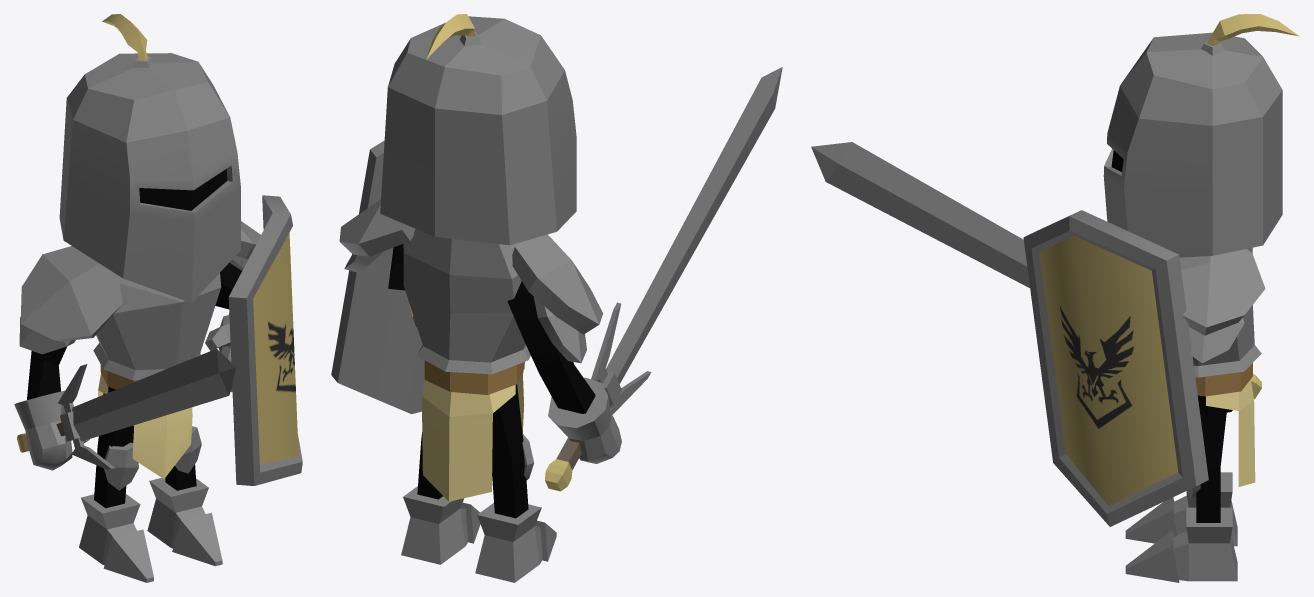
3 views of the same model, side by side, from view 1: azimuth 30°, elevation 25°; view 2: azimuth 150°, elevation 25°; view 3: azimuth 270°, elevation 25° (orthographic). The views are drawn at different scales.
Parts seen in each view (by area): view 1: Soldier_83; view 2: Soldier_83; view 3: Soldier_83.
Part boxes in pixels (x1=…): Soldier_83: x1=14, y1=14, x2=302, y2=582; Soldier_83: x1=331, y1=14, x2=782, y2=582; Soldier_83: x1=811, y1=14, x2=1299, y2=582.
Bounding box in the file's own units: 0.9655 × 1.8 × 1.48.
Materials: 9 (1 with a texture image).
